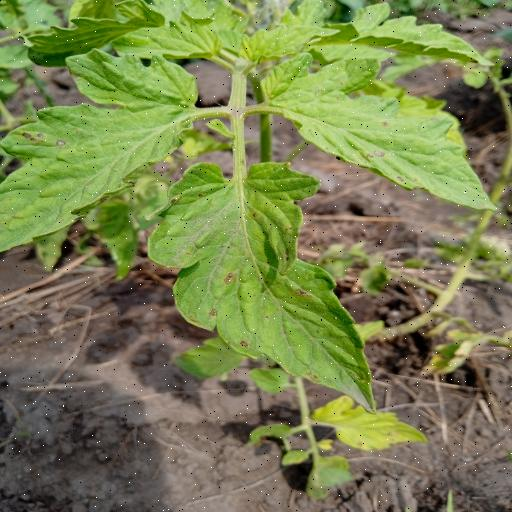Tomato_Brown_Spots: (140, 159, 380, 419), (0, 40, 199, 258), (256, 49, 512, 211)
